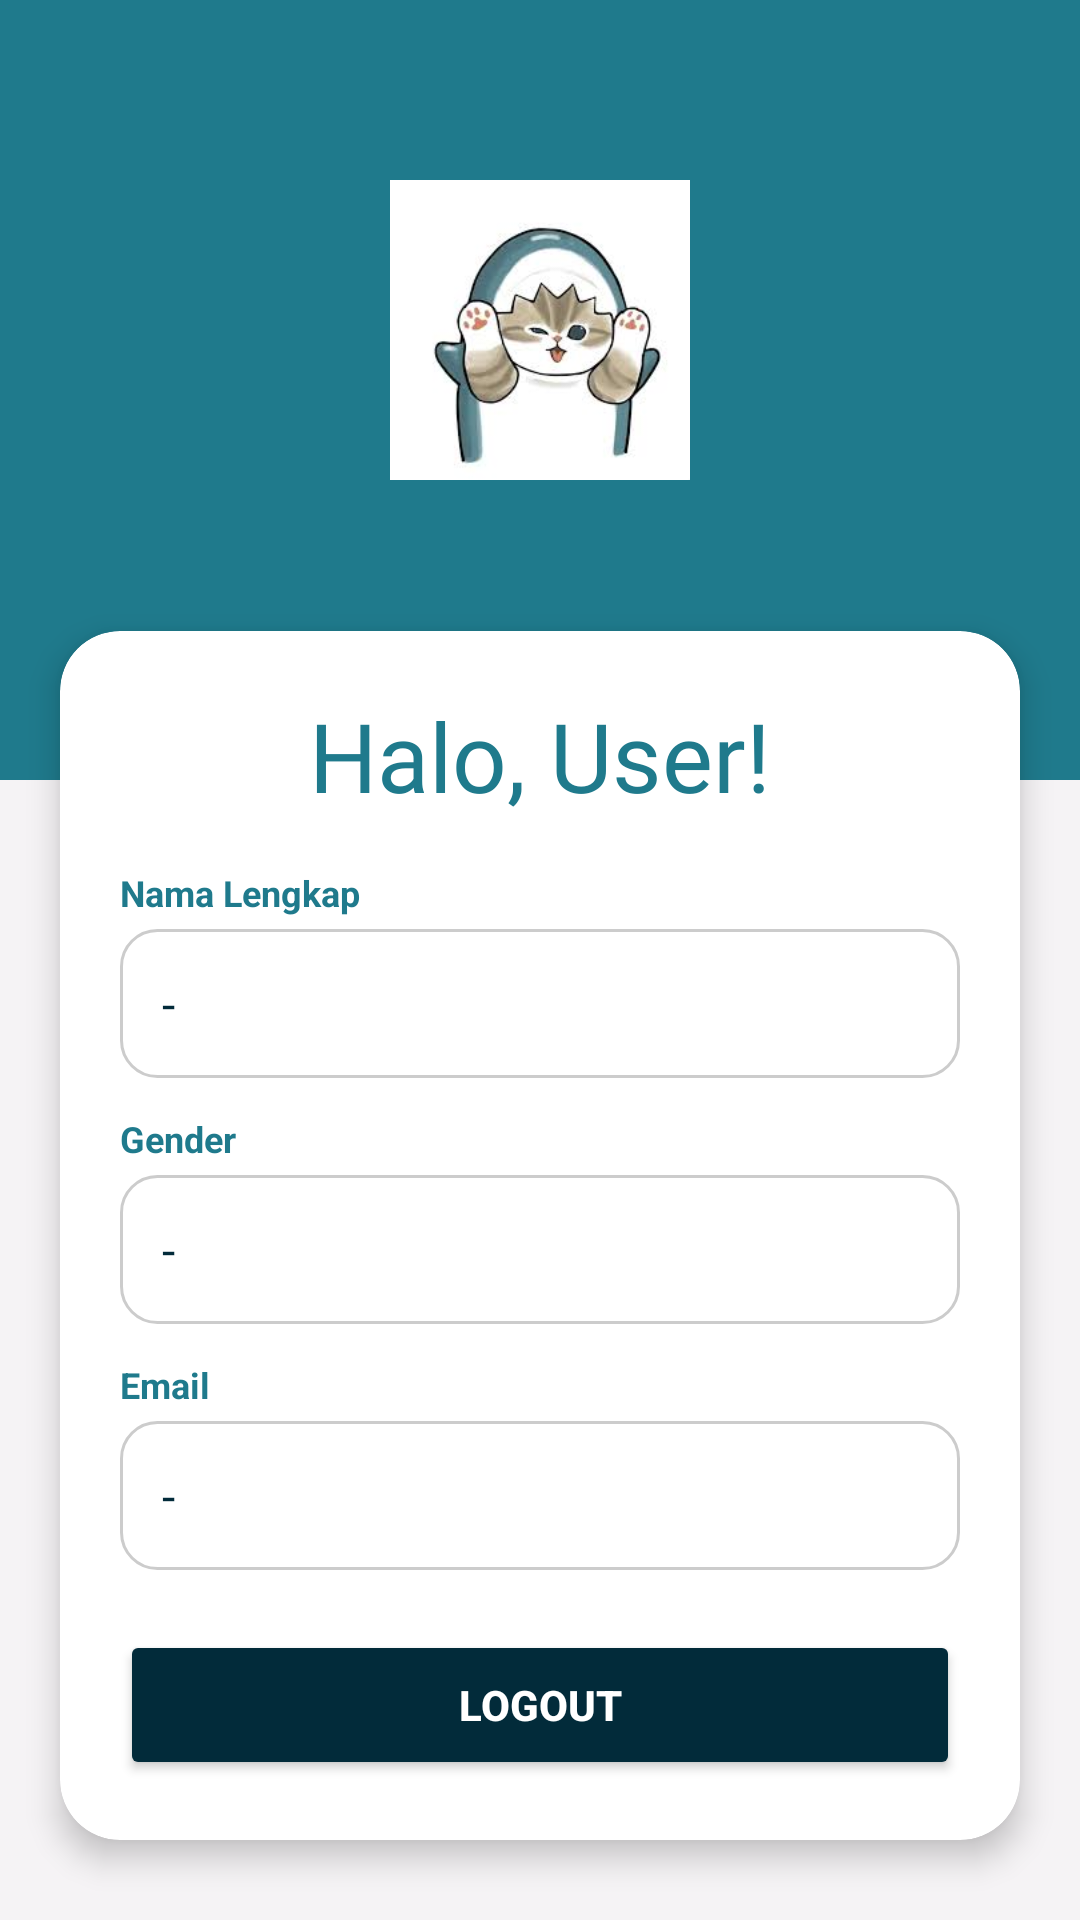

Named icons in this screenshot (1080 x 1920) and their bounding boxes, [x1=x1, y1=y1, x2=x2, y2=y2]:
profil picture: [x1=390, y1=180, x2=690, y2=480]
